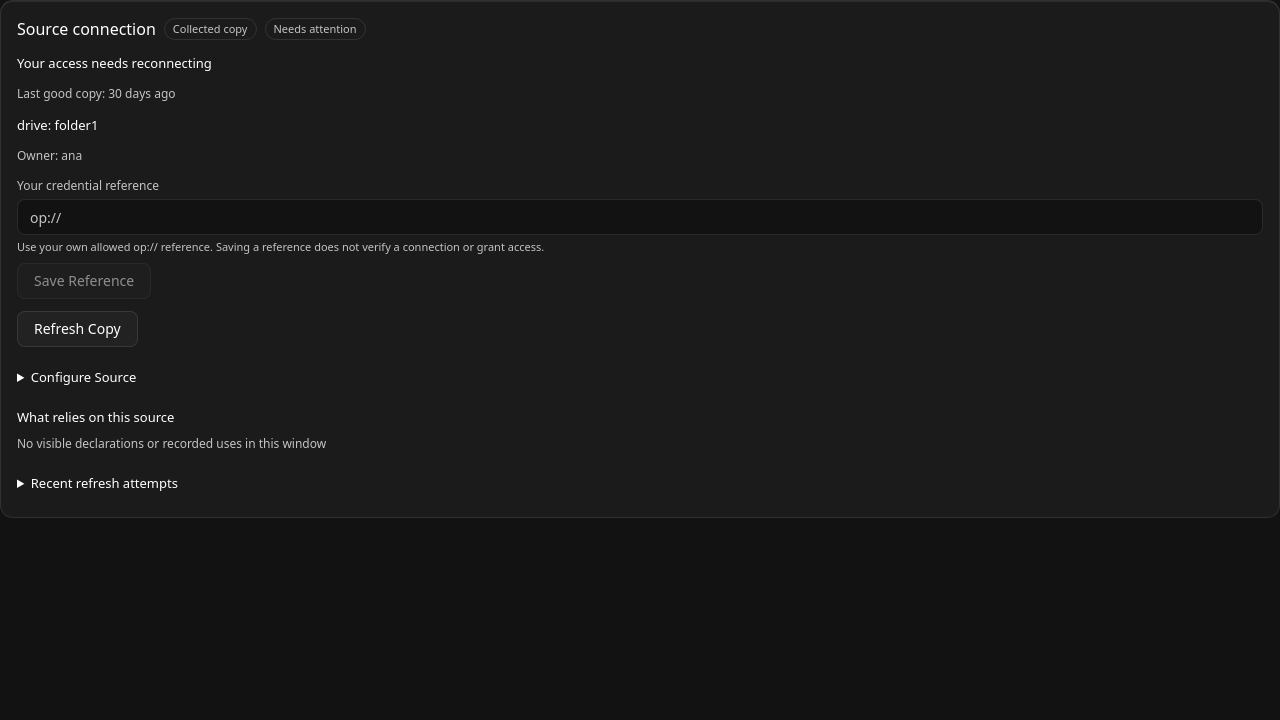
Test: saving a source reference does not claim verified provider access
Expected: the text "No visible declarations or recorded uses in this window" is shown, x1=17 y1=435 x2=326 y2=452
Type "op://People/ana/drive" into the field labelled "Your credential reference".
click(640, 217); type("op://People/ana/drive")  # box x1=17 y1=199 x2=1263 y2=235
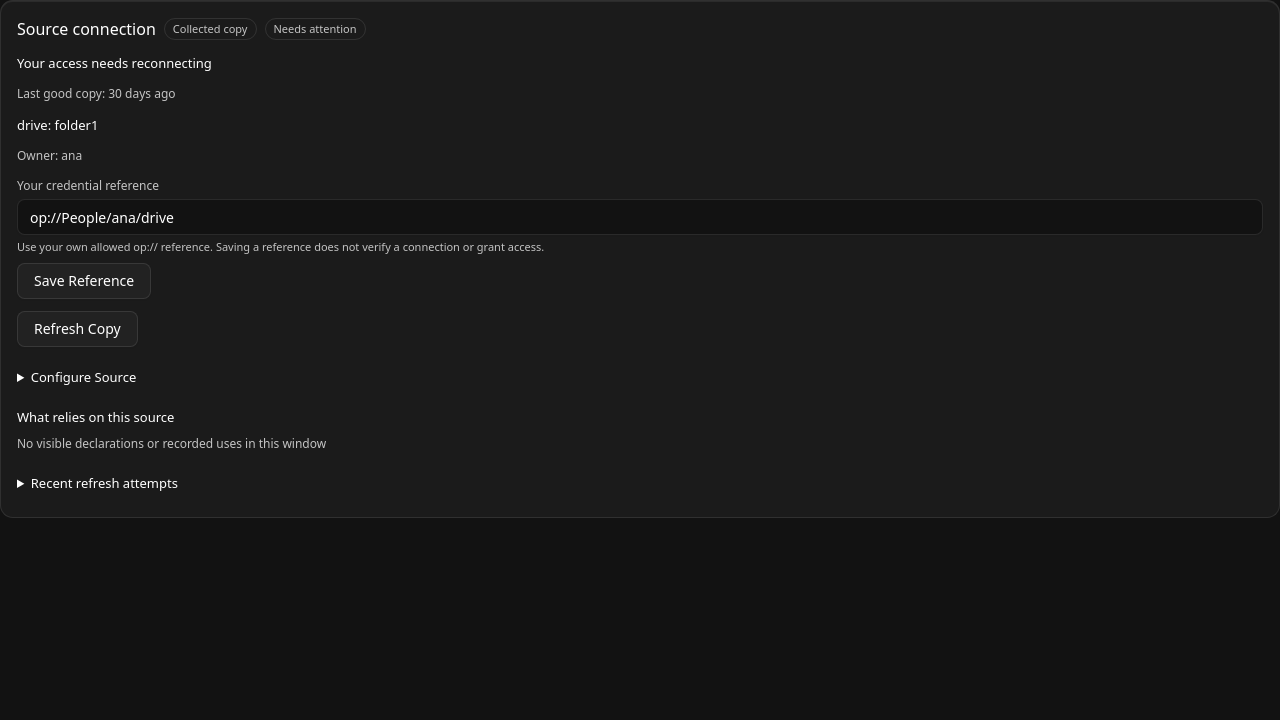
Click the button "Save Reference".
click(84, 281)  # box x1=17 y1=263 x2=151 y2=299
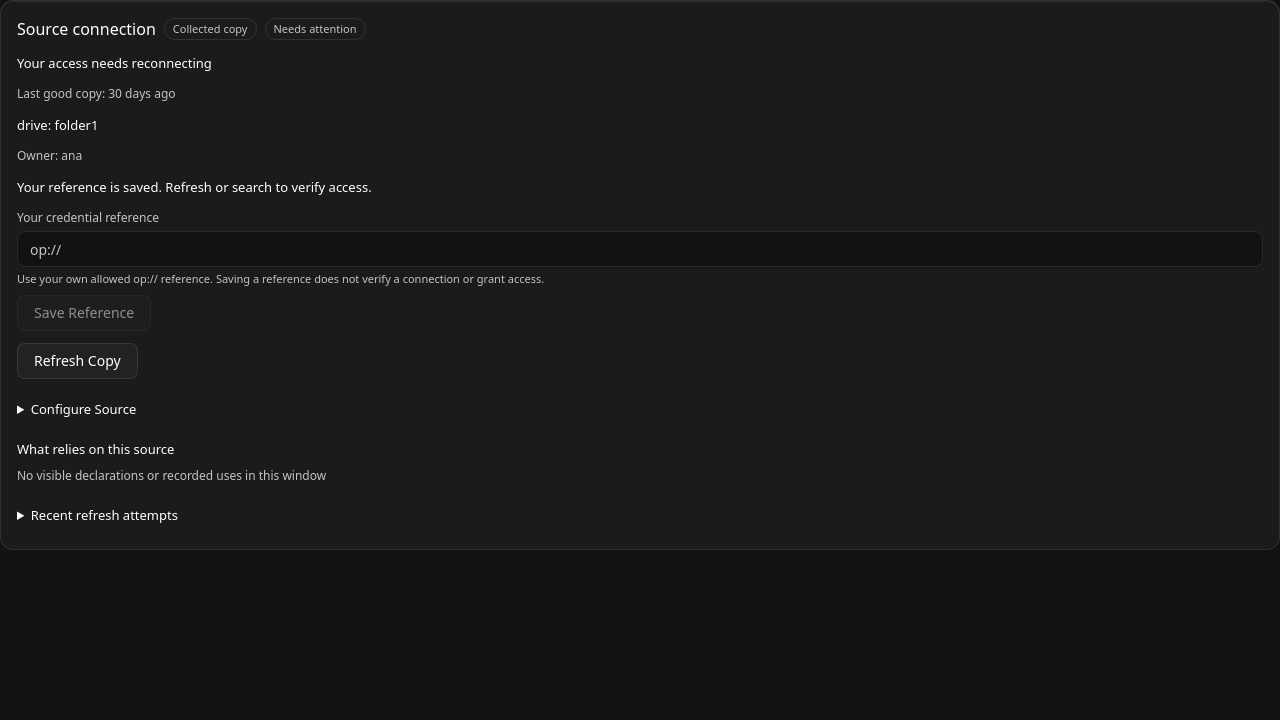
Expected: the text "Needs attention" is shown, x1=274 y1=21 x2=356 y2=37
Result: the text "Your reference is saved. Refresh or search to verify access." is shown at x1=17 y1=178 x2=372 y2=196
